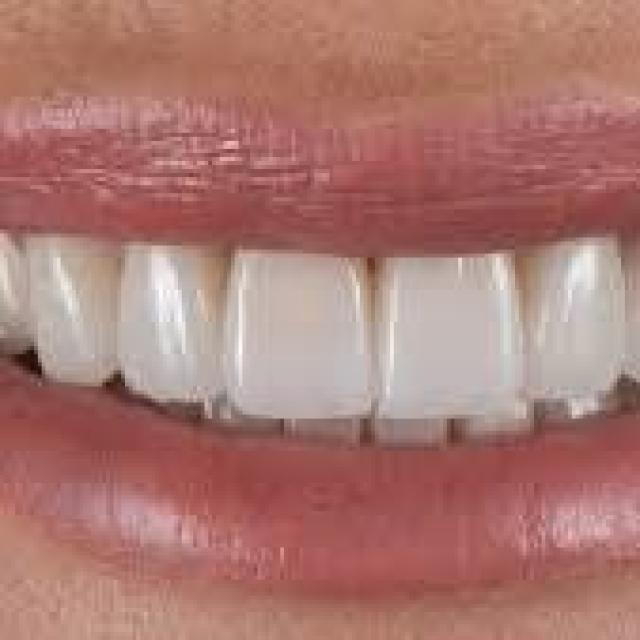tooth: (368, 242, 530, 422), (224, 249, 382, 426), (113, 253, 220, 414), (530, 246, 636, 394), (34, 250, 110, 378)
